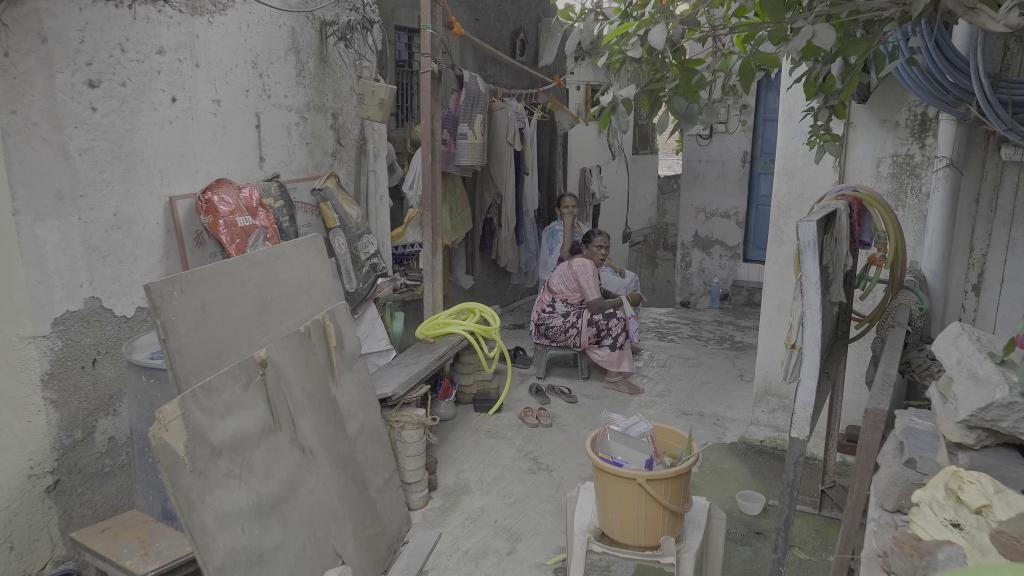garbage: (194, 172, 288, 257)
